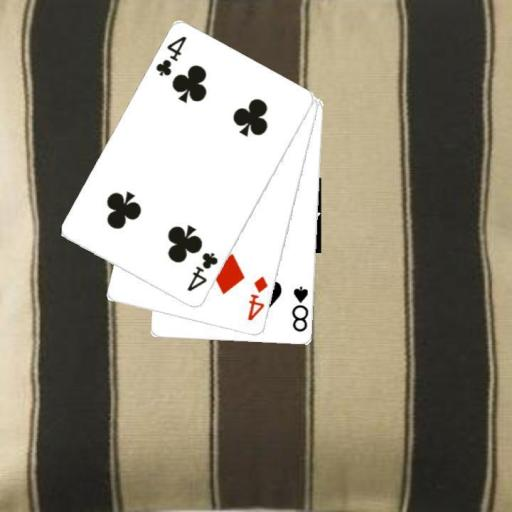card-corner: (152, 34, 189, 78), (184, 250, 220, 294), (244, 273, 270, 323), (289, 283, 310, 334)
